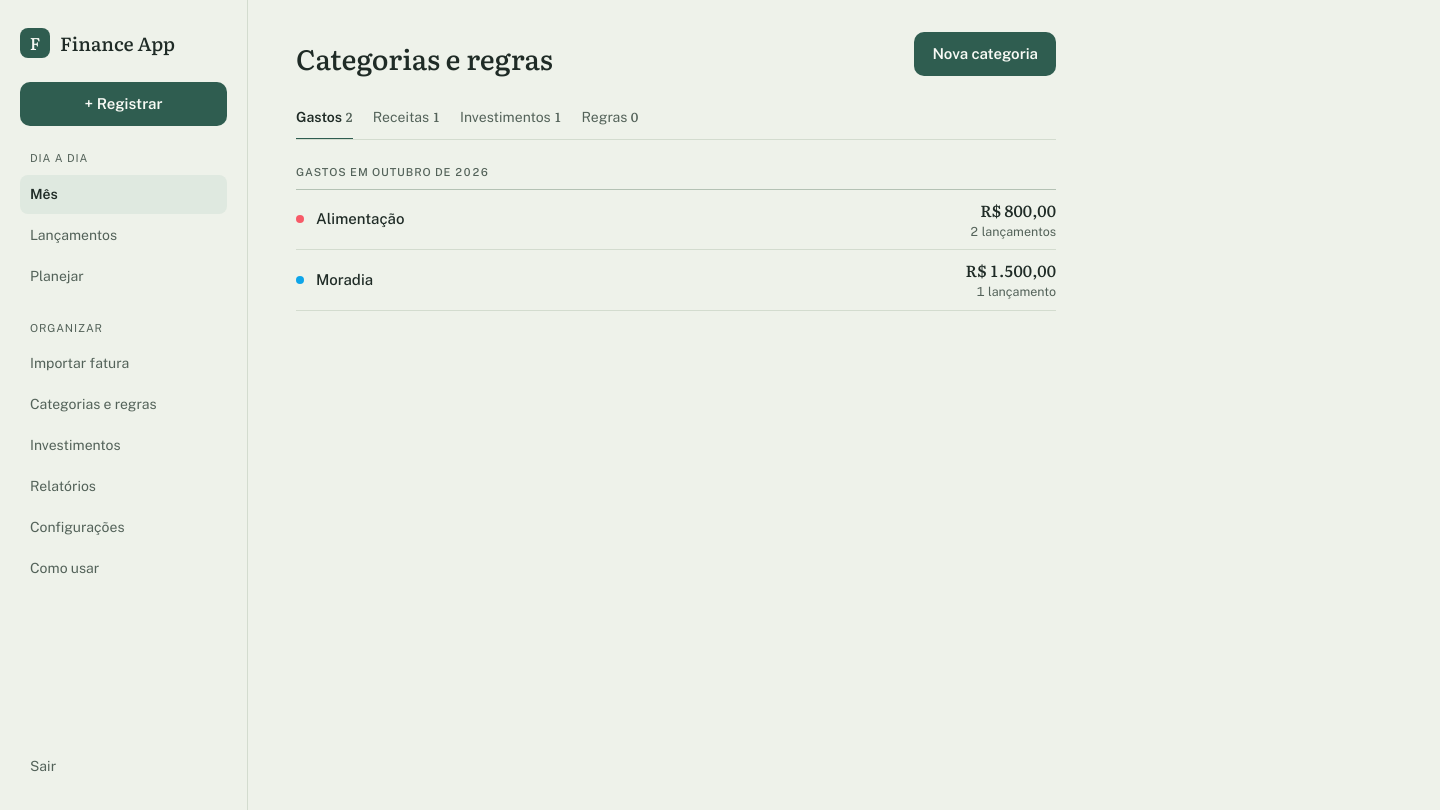
Página de categorias › a aba Regras não oferece criar categoria
Click the tab "Regras 0" at (610, 118), box [582, 96, 638, 140]
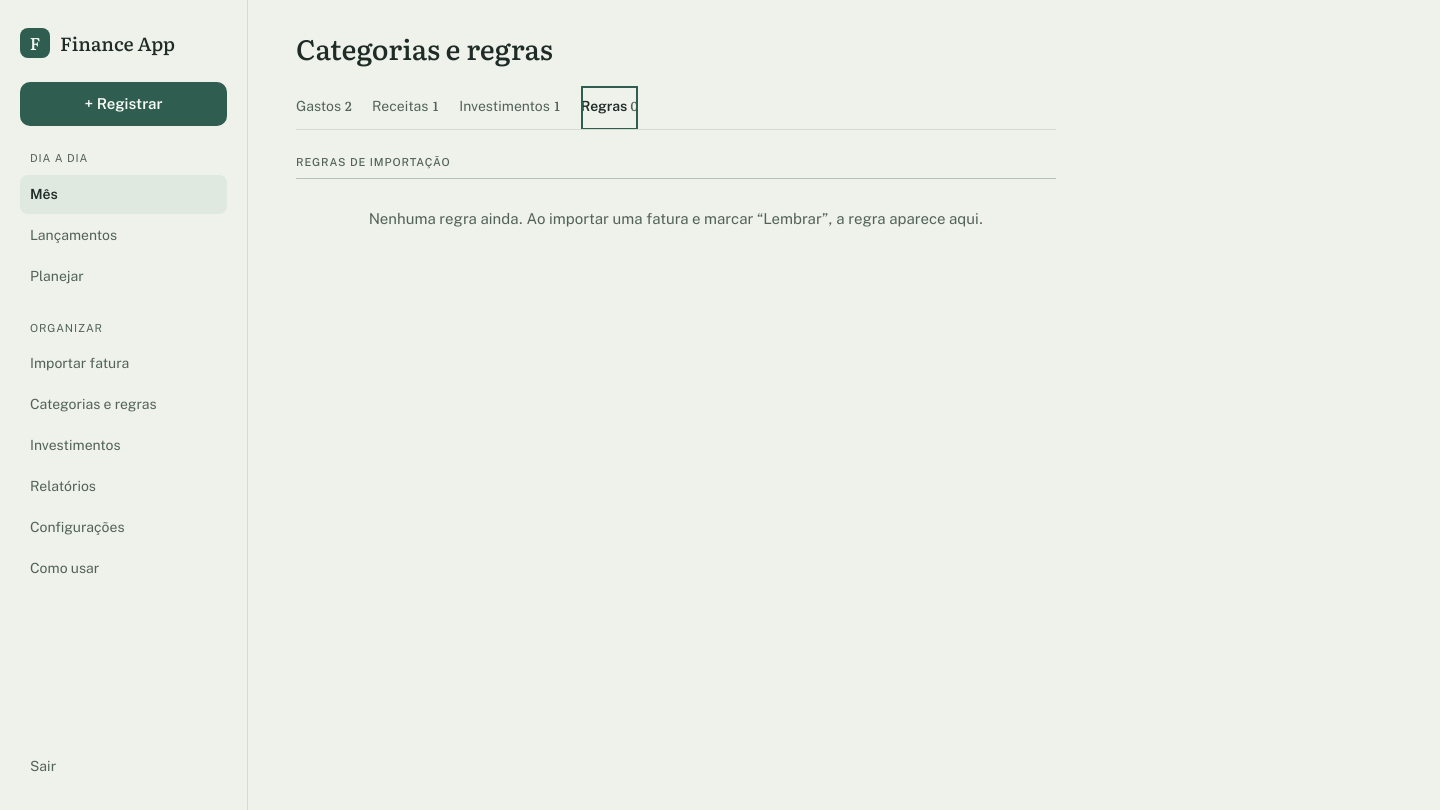
Now the button "Nova categoria" is gone
